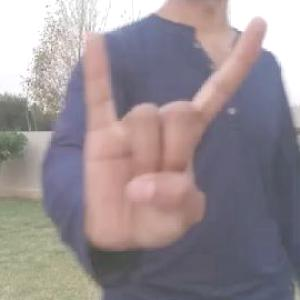takeoff-hand: (73, 5, 278, 264)
